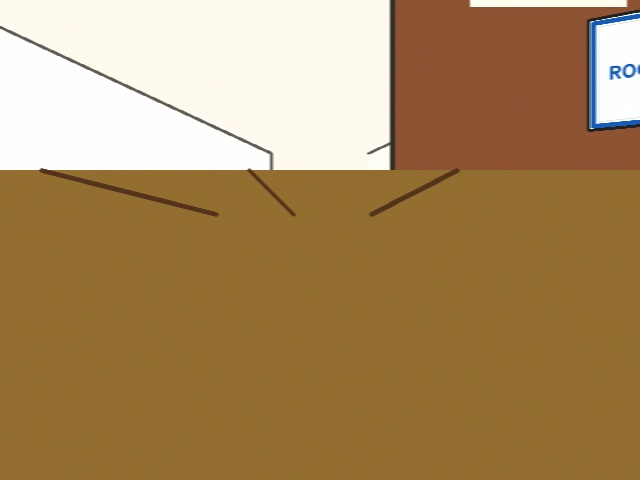directional_sign: (588, 0, 639, 130)
door: (392, 0, 639, 330)
pallet: (0, 170, 639, 479), (141, 221, 363, 304)
